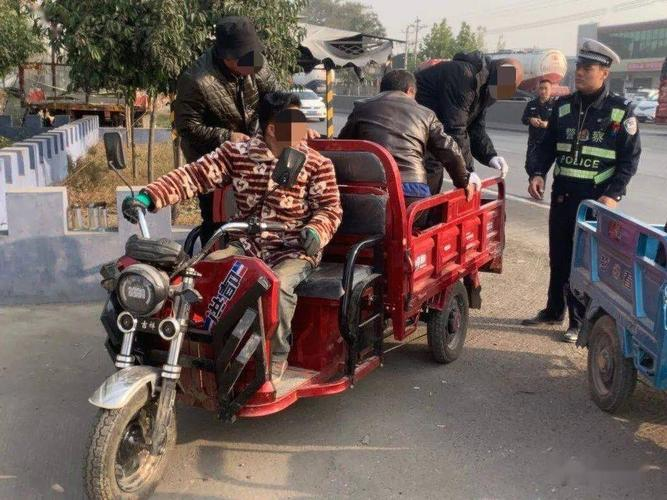driver: (126, 91, 337, 390)
overloading: (83, 20, 511, 500)
passenger: (330, 68, 458, 240), (419, 44, 523, 219), (163, 12, 265, 139)
